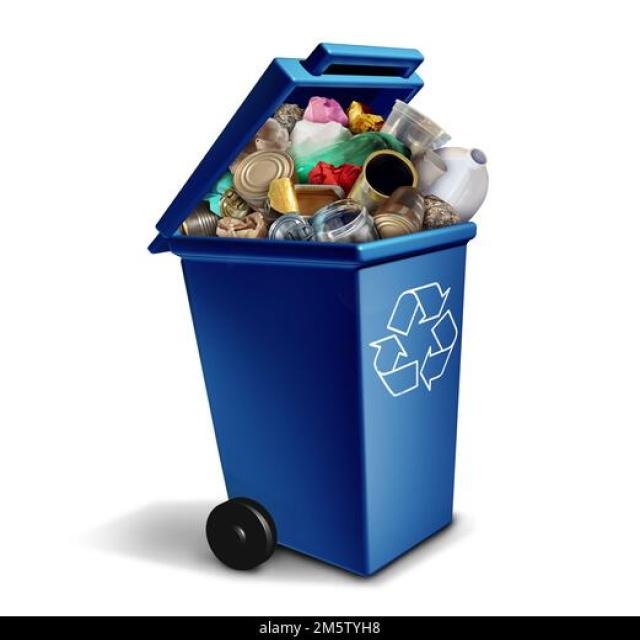metal: (332, 148, 415, 219), (230, 158, 319, 211)
plastic: (432, 146, 495, 211), (278, 211, 377, 248)
trash: (259, 103, 387, 149)
